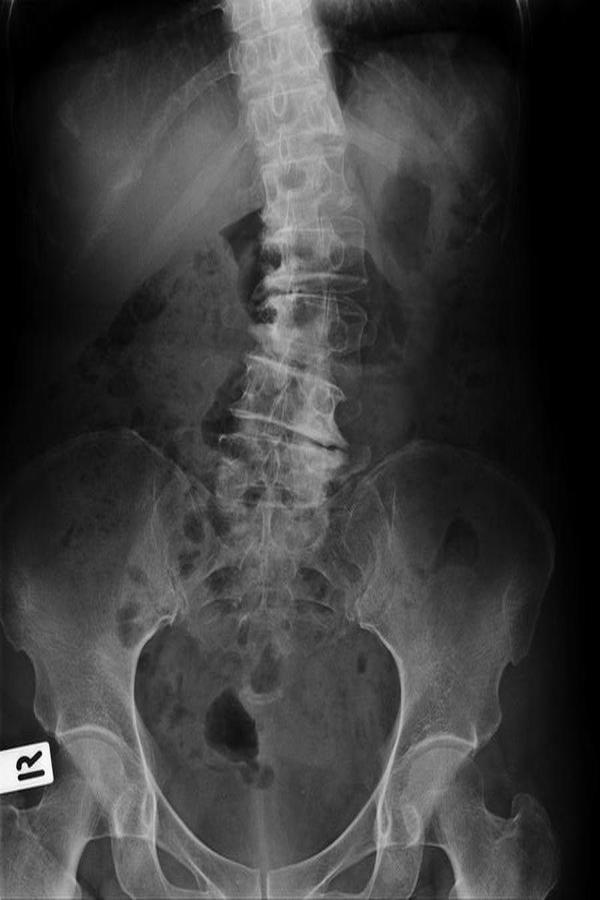lumbar scoliosis: (213, 8, 362, 548)
